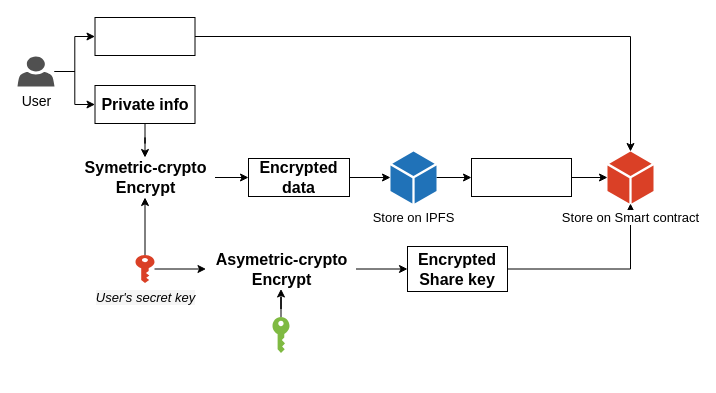
Image size: 716x393. Some labels were removed from this diagram. Here are the shapes that lost their labels. From the top down, the box of each, then its label:
(94, 16, 195, 56): Public info
(470, 158, 572, 196): Hashes data
(272, 316, 289, 352): Verifier's public key
